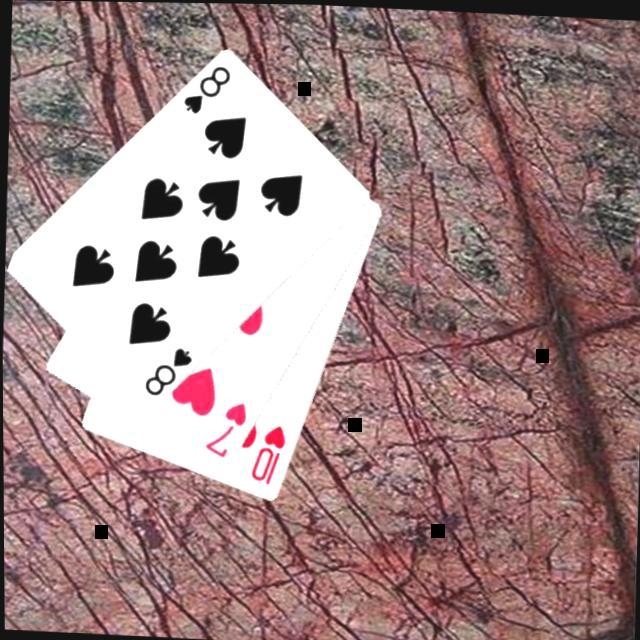10H: (244, 422, 286, 488)
7H: (198, 397, 247, 464)
8S: (137, 344, 192, 403), (176, 62, 231, 121)
